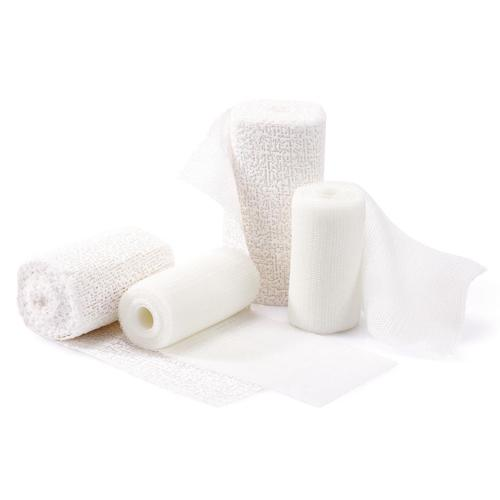bandage: (19, 227, 272, 407), (117, 247, 394, 407), (287, 181, 483, 357), (183, 98, 328, 308)
